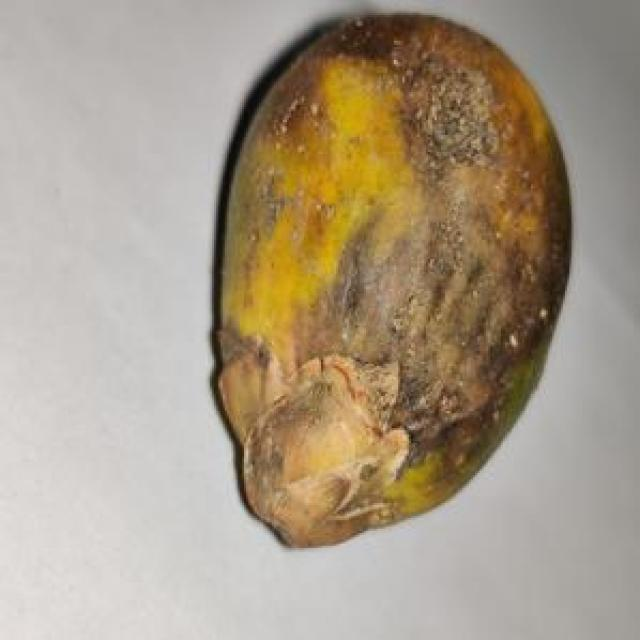damaged: (210, 13, 574, 552)
